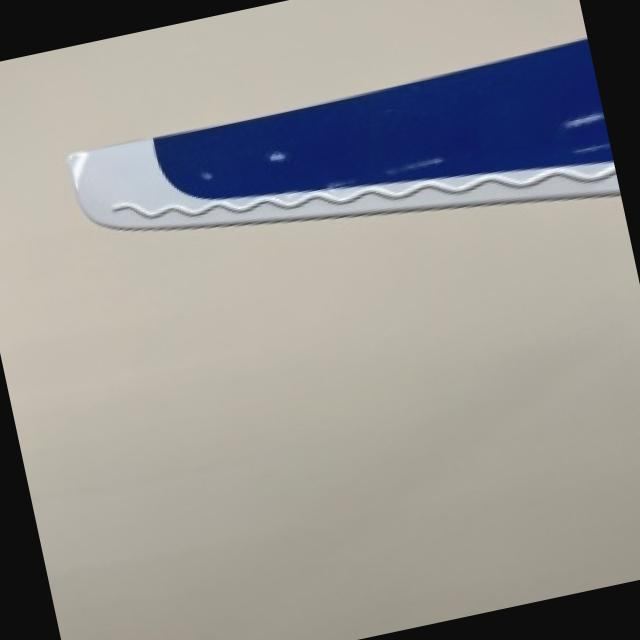healthy: (72, 132, 620, 227)
